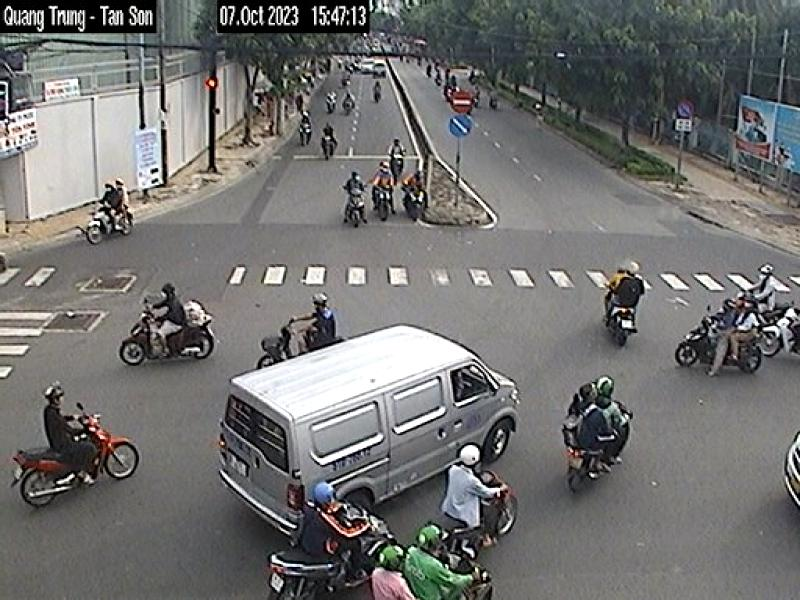car: (219, 332, 521, 534)
motorcycle: (14, 411, 142, 509), (272, 515, 392, 600), (120, 307, 217, 368), (668, 321, 766, 372), (478, 467, 520, 536), (563, 445, 603, 494)
